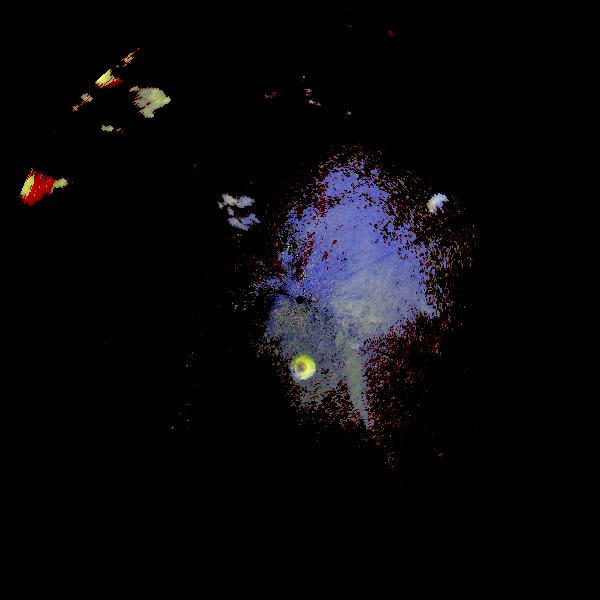roost: (433, 441, 475, 483), (421, 190, 463, 232), (286, 350, 322, 386)
